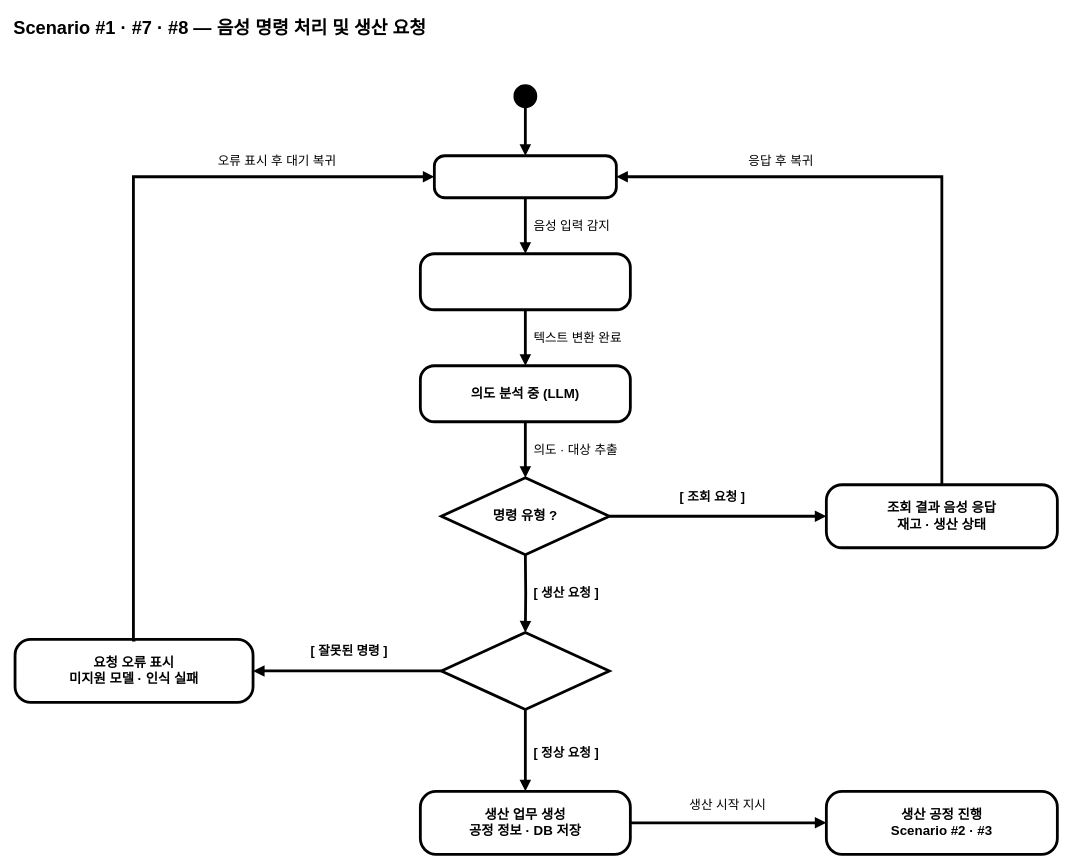
Some shapes in this 1070 by 867 pixel diagram are drawn without their labels. Each missing label, with the centre of its shape:
"대기" goes at point 525,176.
"요청 유효 ?" goes at point 525,670.
"음성 인식 중 (STT)" goes at point 525,281.
